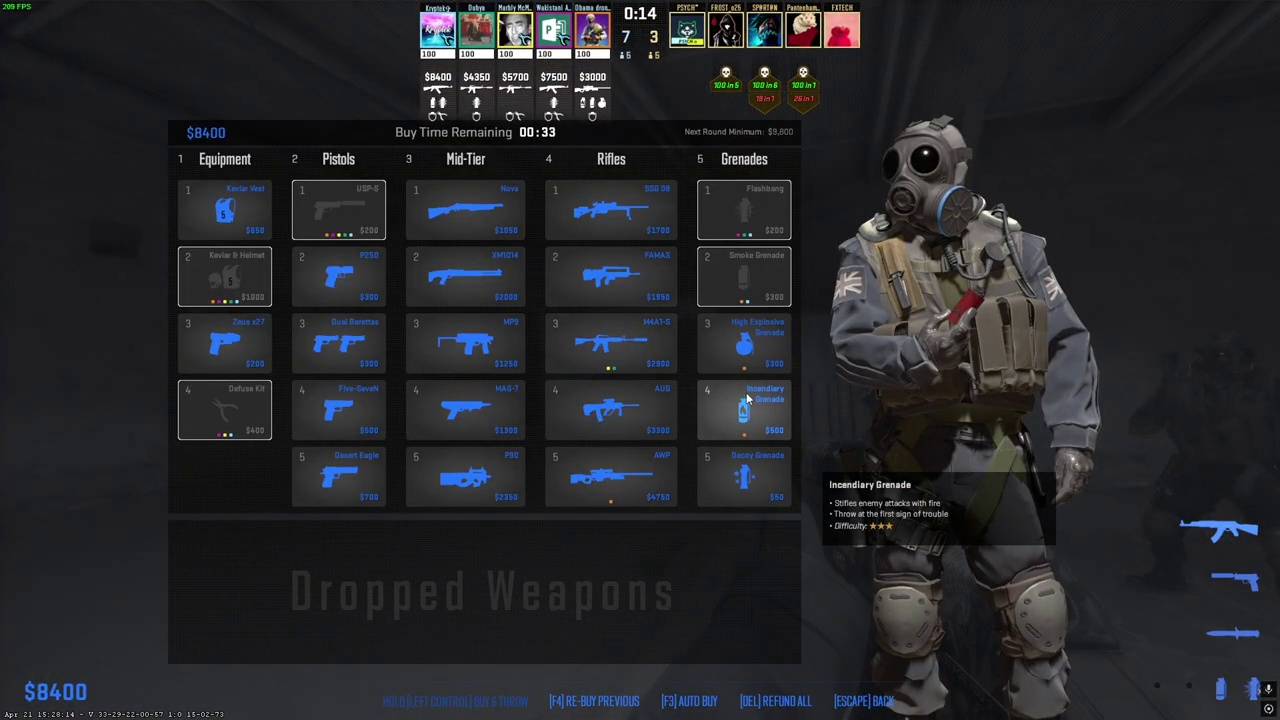CT: (855, 122, 1076, 720)
